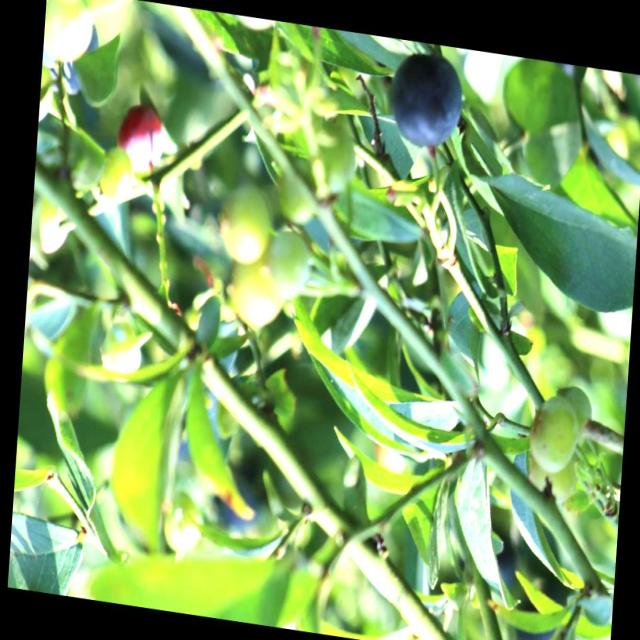blueberry: (385, 45, 465, 153)
blueberry-halfripe: (116, 104, 162, 168)
blueberry-unripe: (527, 394, 582, 476), (222, 260, 283, 328), (265, 223, 311, 295), (223, 190, 268, 263), (100, 314, 142, 381), (97, 143, 134, 203)
